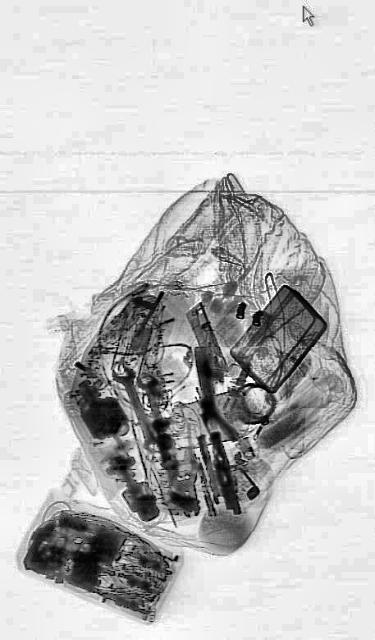Wrench: (109, 354, 161, 460), (134, 366, 176, 472)
